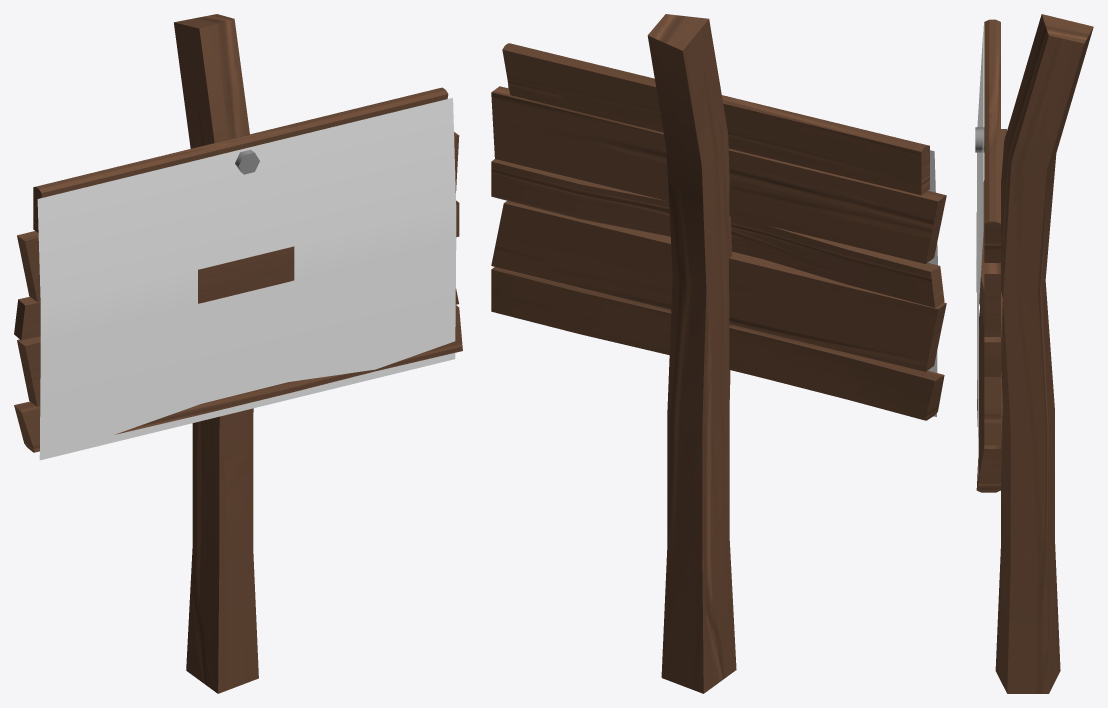
Rendered from Tutorial_Sign.FBX.
3 renders of one model, left to right at view 1: azimuth 30°, elevation 25°; view 2: azimuth 150°, elevation 25°; view 3: azimuth 270°, elevation 25°, orthographic. The views are drawn at different scales.
Visible parts, largest first — view 1: Plane013, Box563; view 2: Box563; view 3: Box563, Plane013.
Part boxes in pixels (x1=…): Plane013: x1=37, y1=98, x2=456, y2=460; Box563: x1=14, y1=14, x2=462, y2=693; Box563: x1=491, y1=14, x2=946, y2=693; Box563: x1=975, y1=14, x2=1093, y2=693; Plane013: x1=977, y1=26, x2=983, y2=475.
Size of the model in its own units: 14.02 by 3.25 by 19.95.
